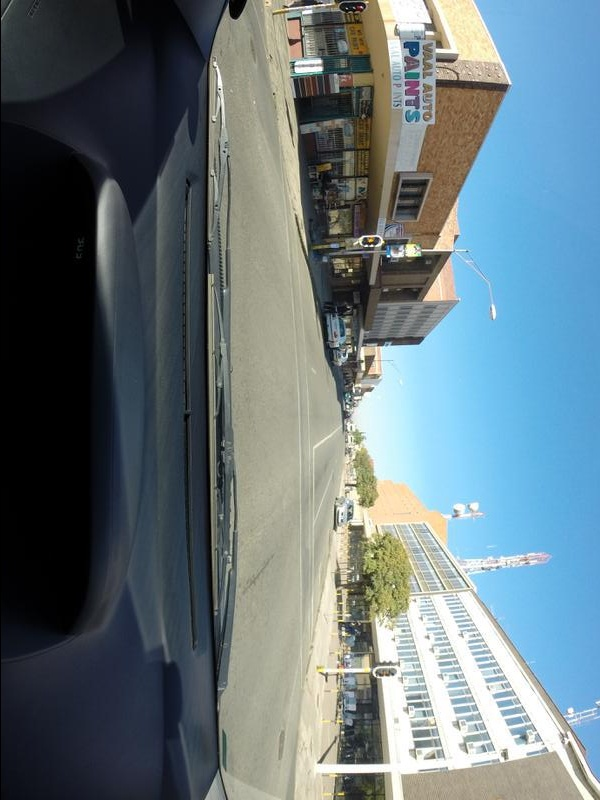pothole: (245, 38, 256, 65), (278, 727, 283, 763)
